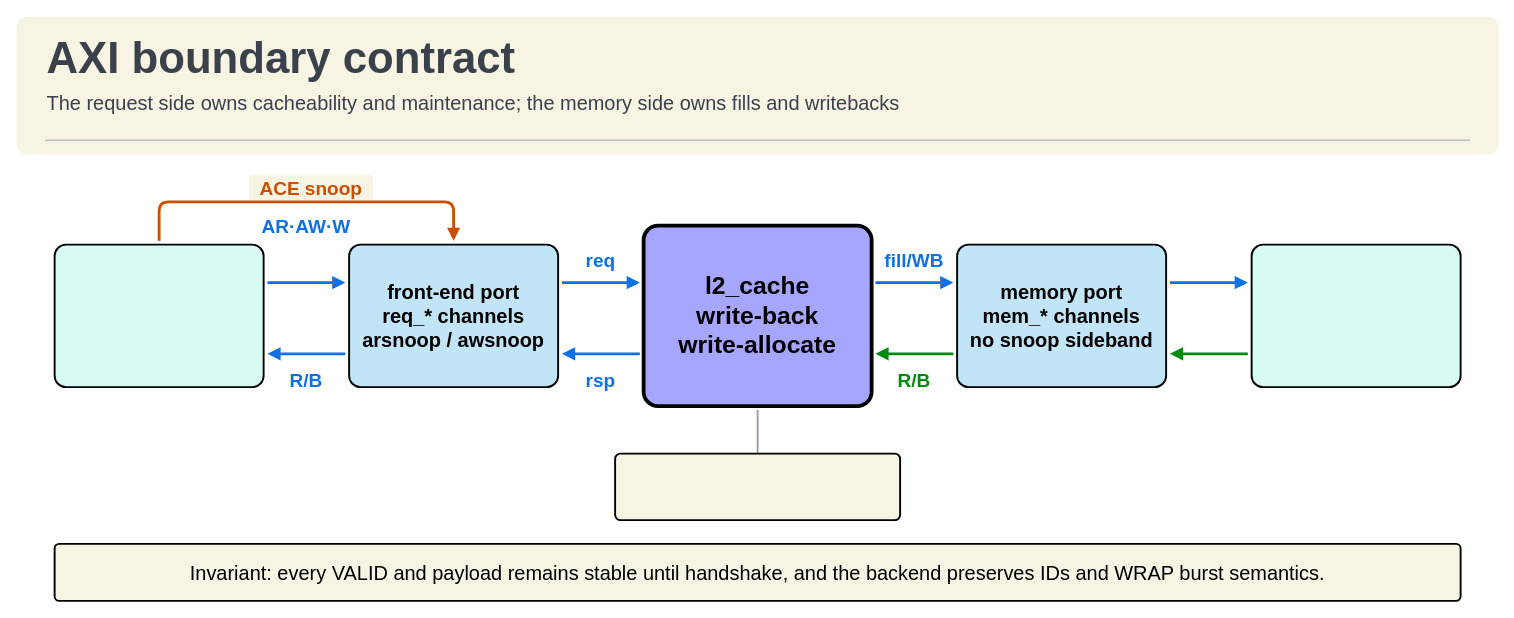
Image size: 1514x618. Some labels were removed from this diagram. The shapes that lost their labels are listed below. From the top down, each one's centre as x and y in pixels, then its label:
At (x=158, y=315): "system master AXI4 + snoop".
At (x=1355, y=315): "memory backend DDR / HBM / RAM R/B = OKAY".
At (x=757, y=486): "single clock domain clk · synchronous rst".
